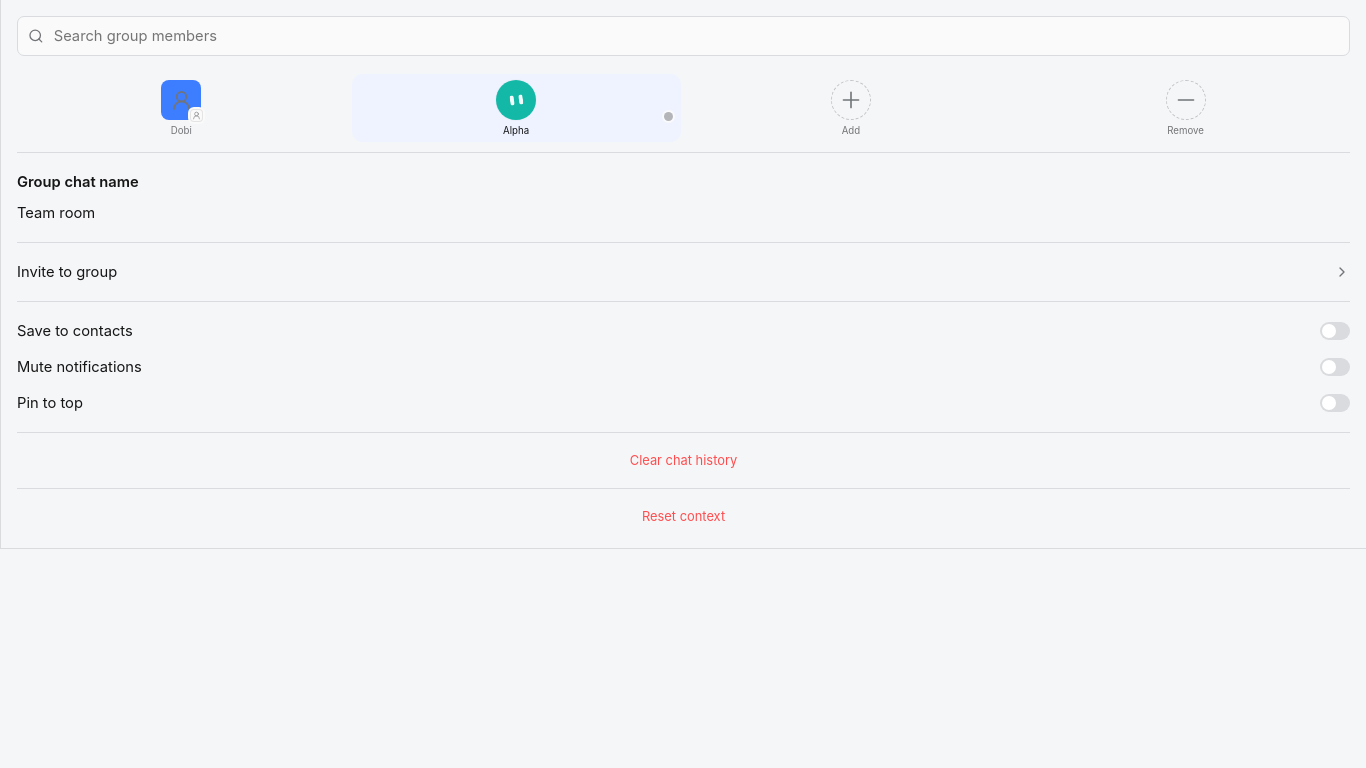
Test: chat details rail › requires confirmation to reset group context without clearing history
Click the button "Reset context". click: (684,516)
box: 17,489 -> 1350,544
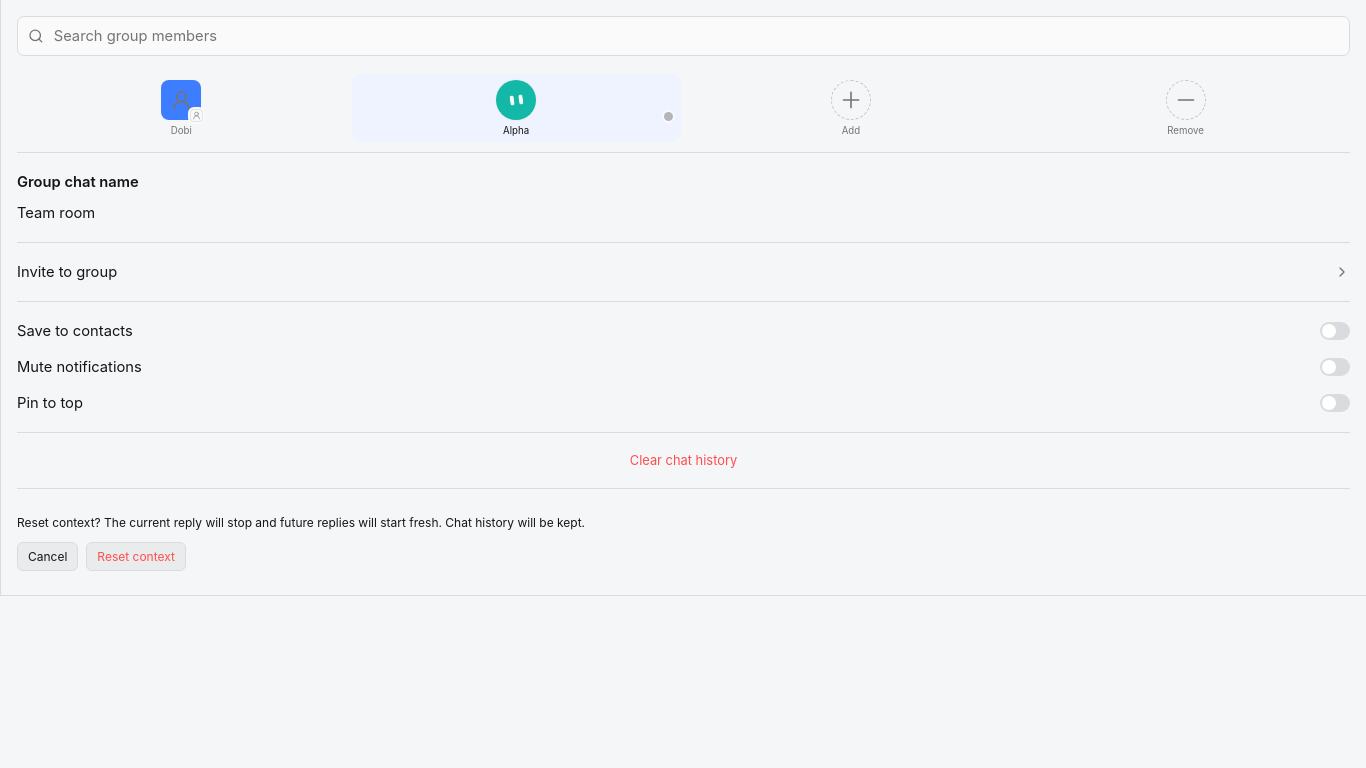
Expected: the text "Chat history will be kept" is shown, 17,515 -> 585,530
Click the button "Cancel". click: (48,556)
box: 17,542 -> 78,571
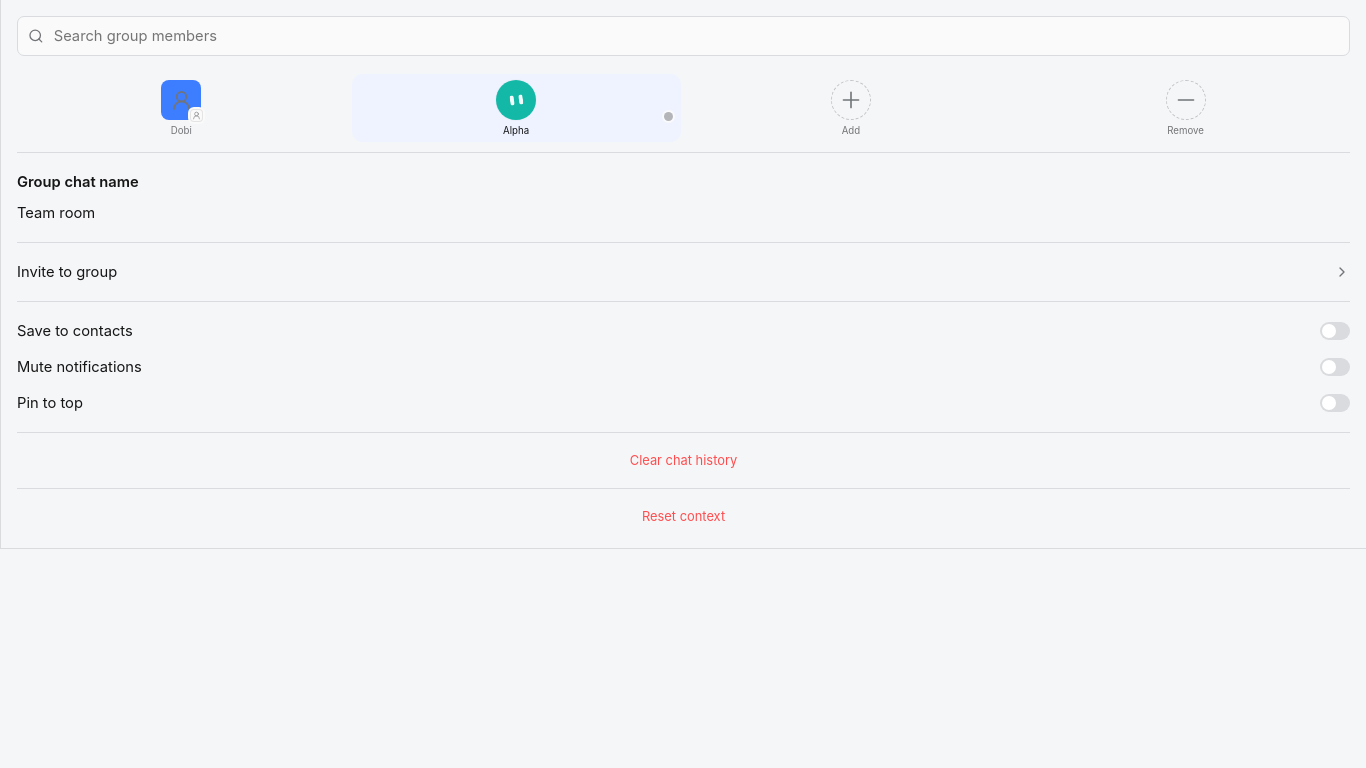
Click the button "Reset context". click: (684,516)
box: 17,489 -> 1350,544
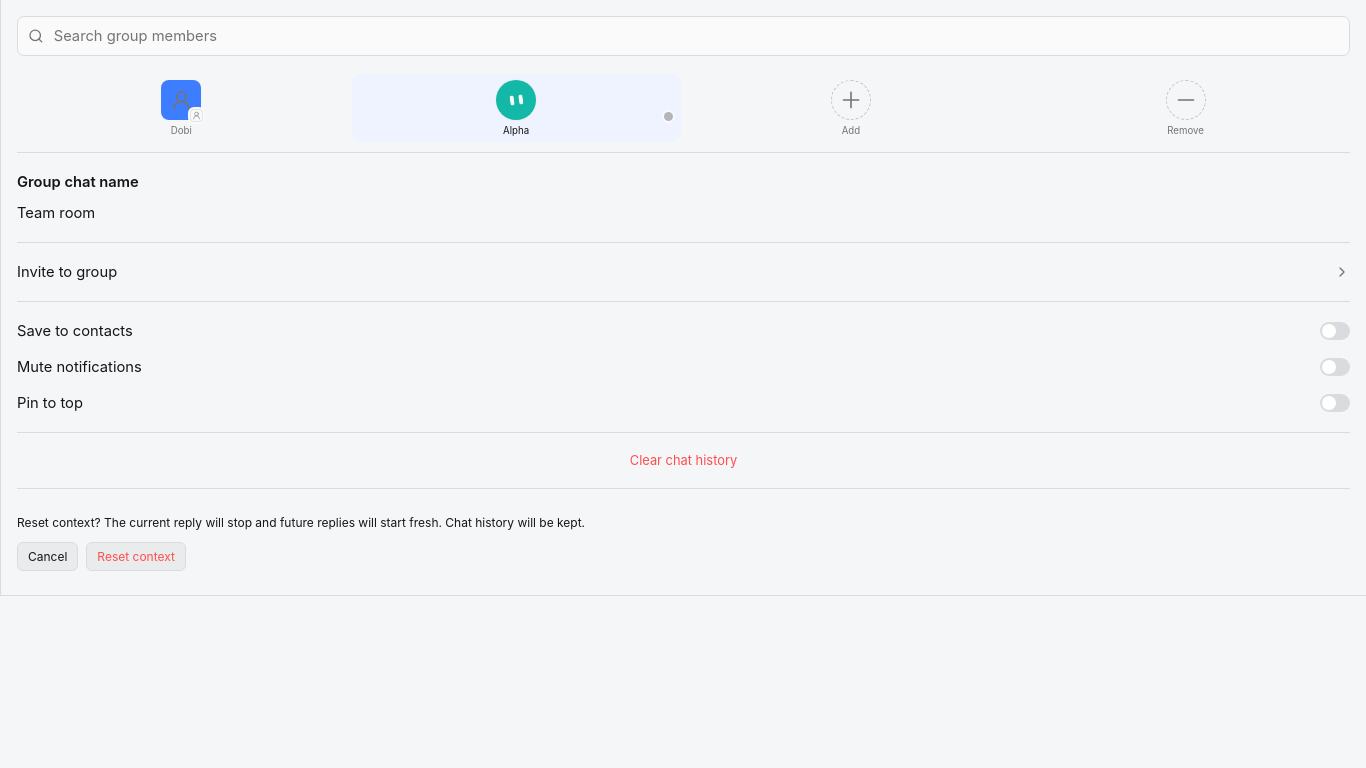
Click the button "Reset context". click: (136,556)
box: 86,542 -> 186,571
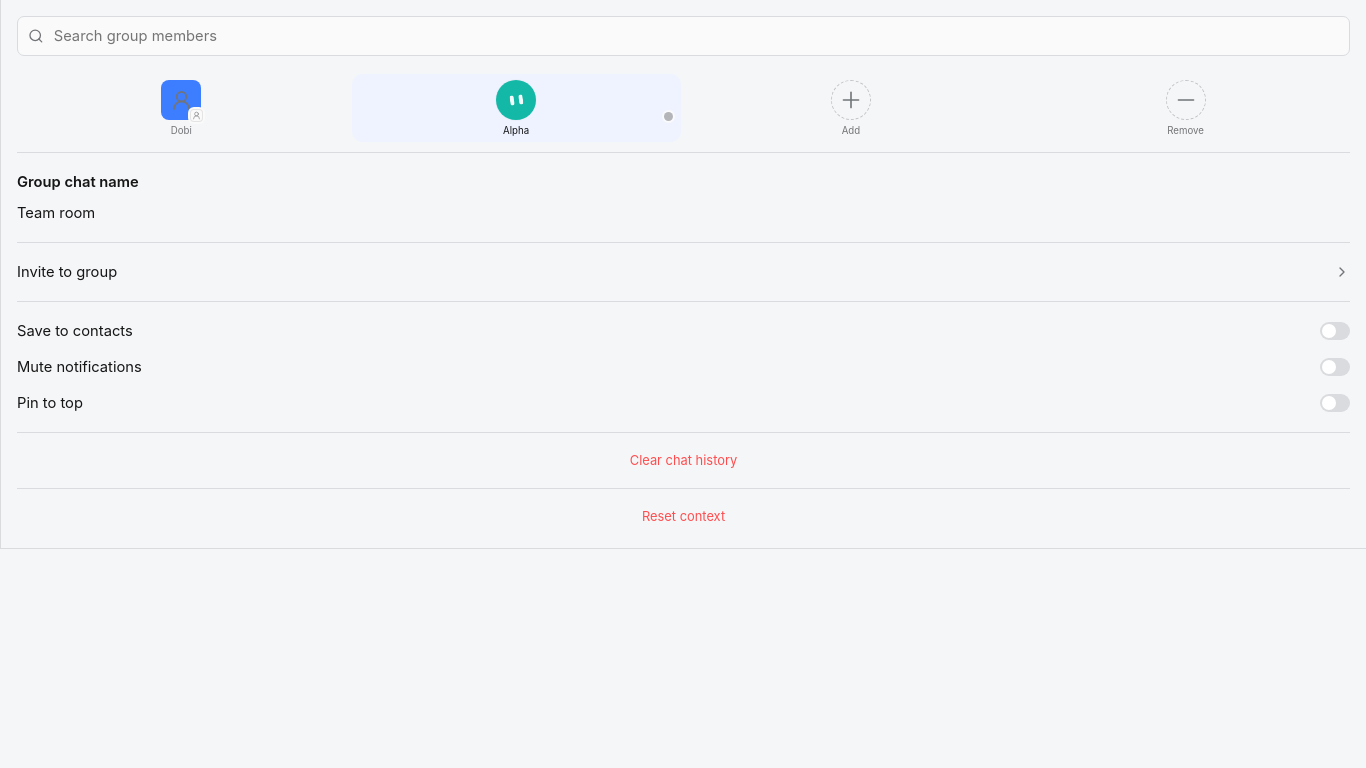
Expected: the element with class "detail-clear-confirm" is gone
